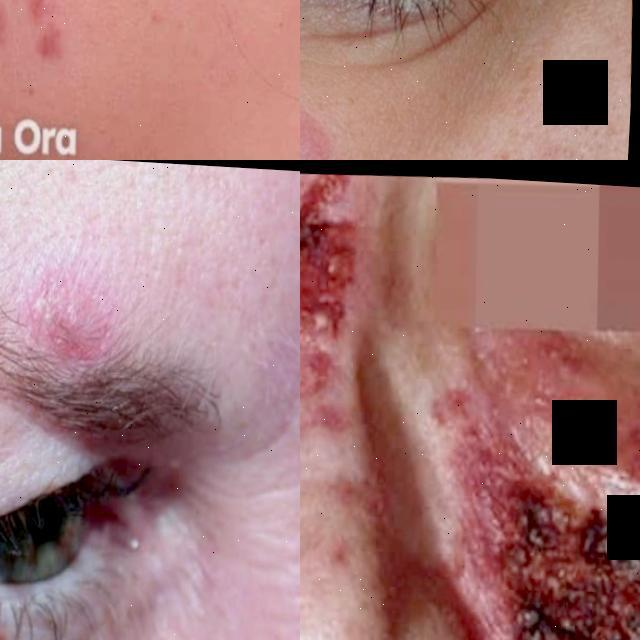lupus-detected: (416, 348, 640, 640), (300, 163, 447, 570), (0, 259, 165, 409), (0, 0, 176, 113), (300, 55, 432, 160)
